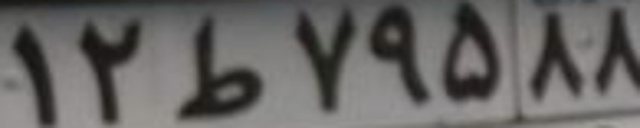1: (11, 25, 56, 124)
2: (76, 17, 141, 123)
5: (437, 2, 503, 101)
7: (290, 4, 359, 111)
8: (524, 12, 586, 100), (592, 8, 639, 100)
9: (367, 5, 427, 101)
taa: (170, 14, 265, 118)
